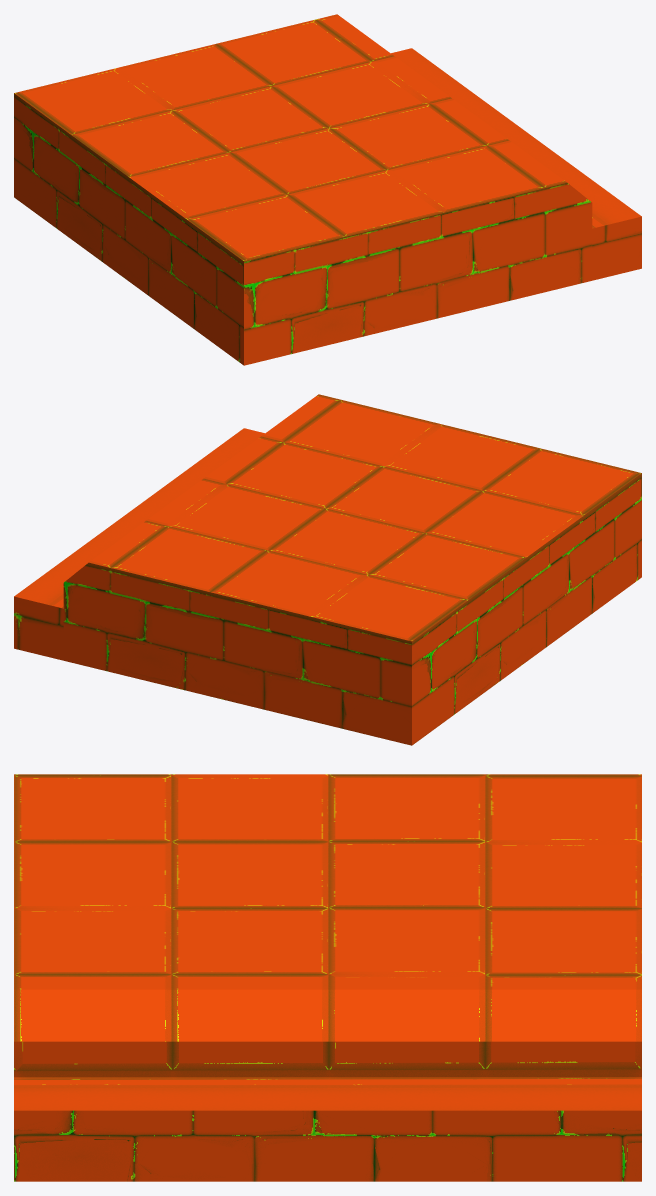
Rendered from Edge Channel Floor Tile.fbx.
3 renders of one model, top to bottom at view 1: azimuth 30°, elevation 25°; view 2: azimuth 150°, elevation 25°; view 3: azimuth 270°, elevation 25°, orthographic. The views are drawn at different scales.
Visible parts, largest first — view 1: pCube7; view 2: pCube7; view 3: pCube7.
Part boxes in pixels (x1=…): pCube7: x1=14, y1=14, x2=641, y2=365; pCube7: x1=14, y1=394, x2=641, y2=745; pCube7: x1=14, y1=774, x2=641, y2=1181.
Size of the model in its own units: 200 by 50 by 200.
